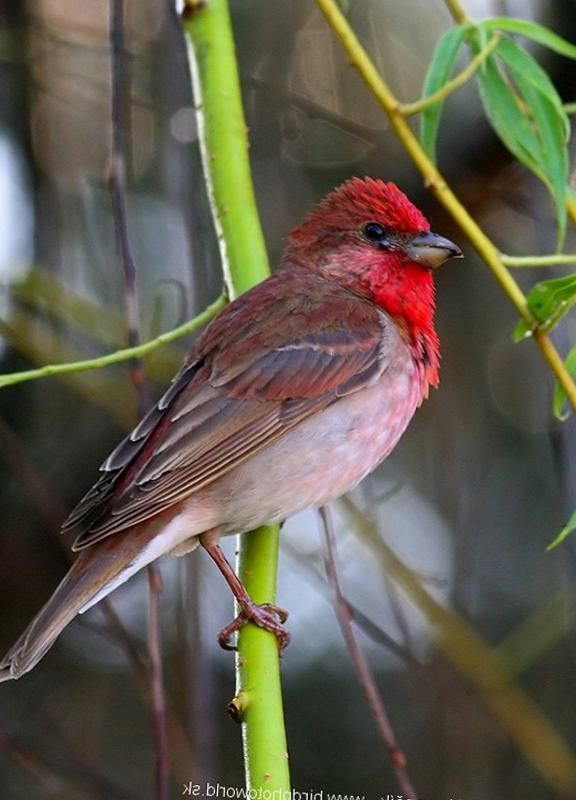rosefinch: (1, 183, 479, 636)
